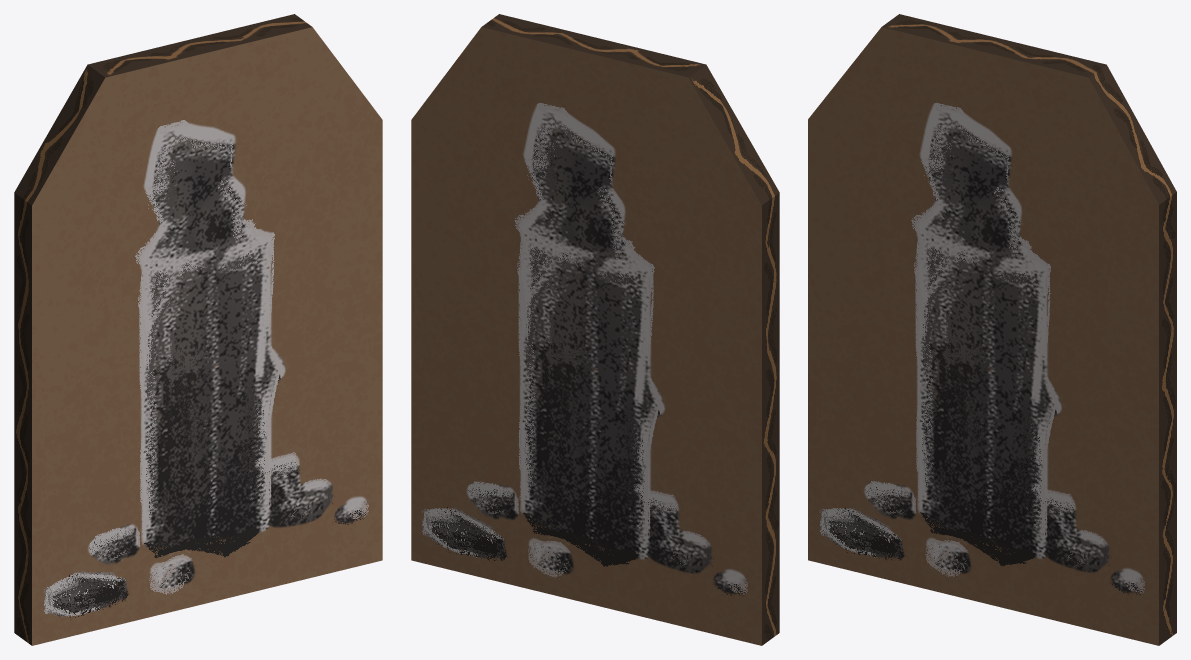
Rendered from RockPillarBox1.fbx.
3 views of the same model, side by side, from view 1: azimuth 30°, elevation 25°; view 2: azimuth 150°, elevation 25°; view 3: azimuth 330°, elevation 25° (orthographic).
Visible parts, largest first — view 1: Rockpillar; view 2: Rockpillar; view 3: Rockpillar.
Part boxes in pixels (<box>): Rockpillar: <box>14,14,382,645</box>; Rockpillar: <box>411,14,779,645</box>; Rockpillar: <box>808,14,1176,645</box>.
Size of the model in its own units: 2 by 3 by 0.1763.
